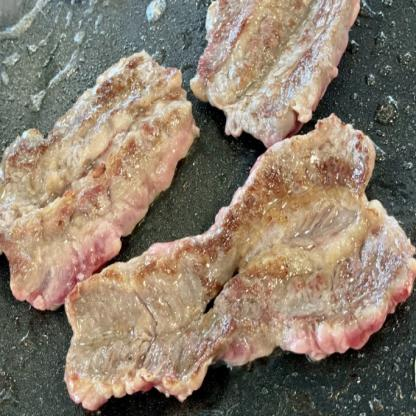Carne: (67, 112, 416, 415), (0, 60, 193, 252), (187, 0, 365, 139)
